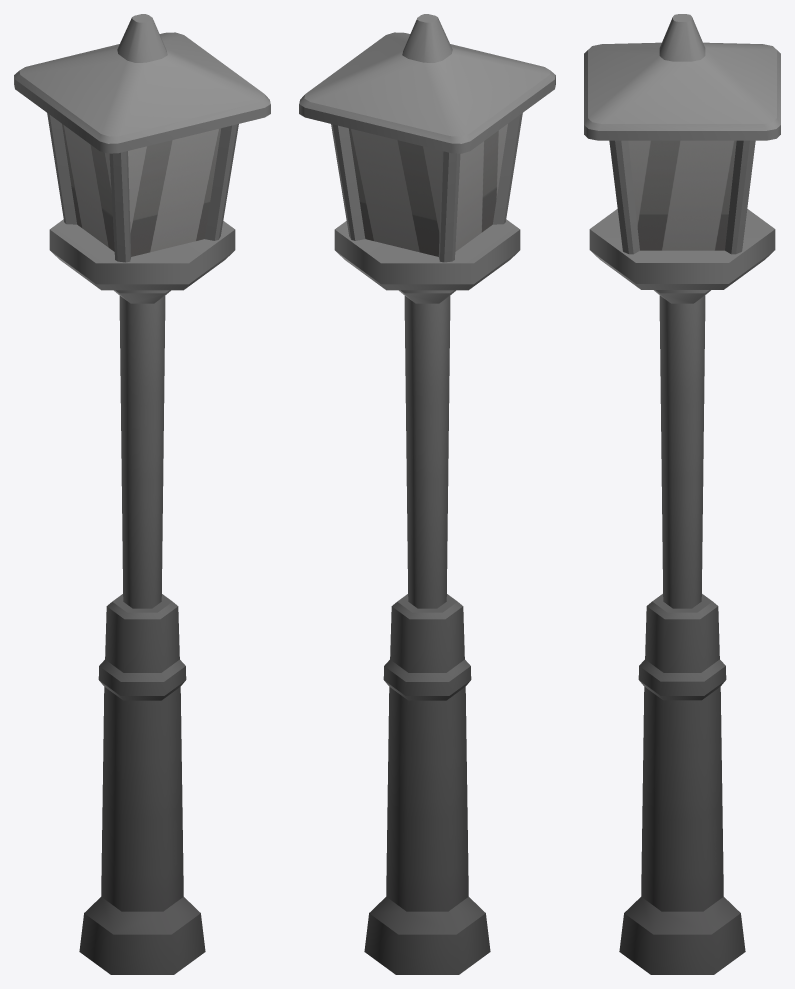
File: StreetLamp_3_D.fbx
3 renders of one model, left to right at view 1: azimuth 30°, elevation 25°; view 2: azimuth 150°, elevation 25°; view 3: azimuth 270°, elevation 25°, orthographic.
Parts seen in each view (by area): view 1: StreetLamp_3_D; view 2: StreetLamp_3_D; view 3: StreetLamp_3_D.
Part boxes in pixels (x1,y1,x2,y2): StreetLamp_3_D: (14,14,270,974); StreetLamp_3_D: (299,14,555,974); StreetLamp_3_D: (584,14,780,974).
Size of the model in its own units: 74.08 by 388 by 74.08.
